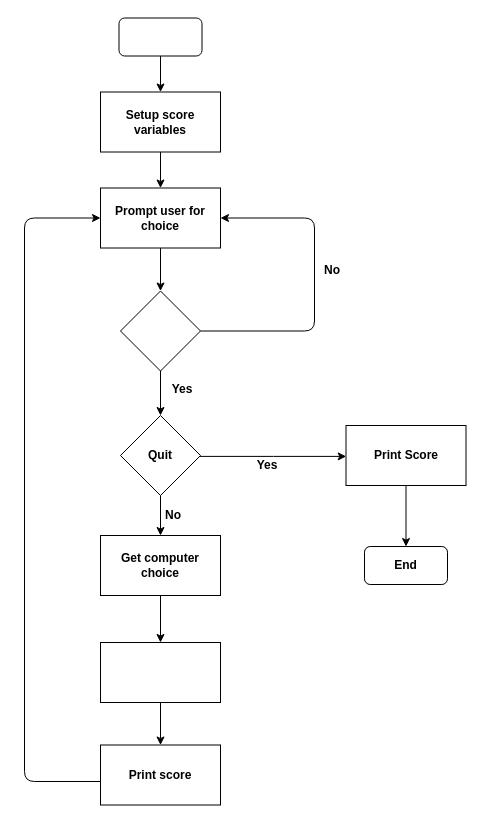
Image size: 484x822. Some labels were removed from this diagram. The centre of each missing label's shape, as x and y in pixels:
Determine win, lose or tie and increment score: (160,672)
Start: (160,36)
Valid choice: (160,330)
